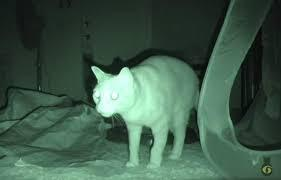house cat: (77, 57, 197, 175)
